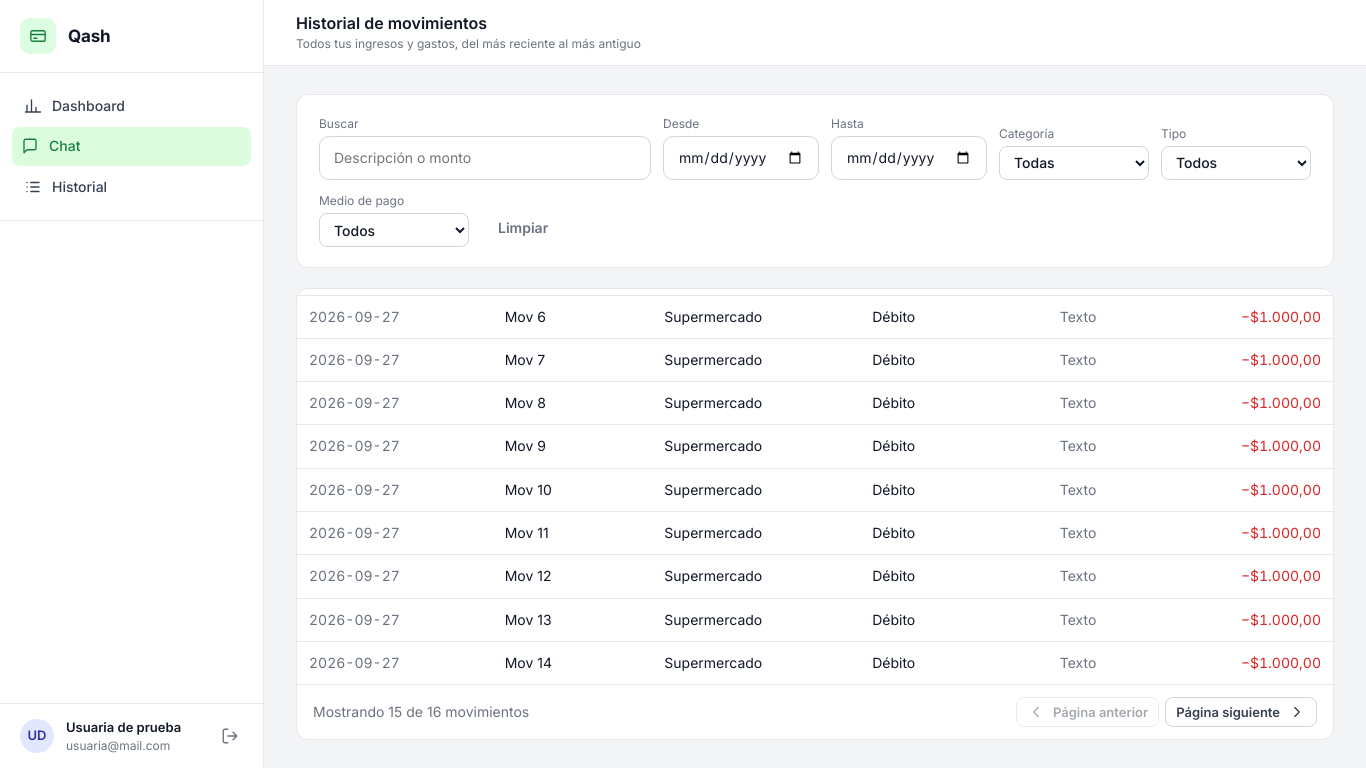
Test: Historial › muestra el total y permite pasar de página
The width and height of the screenshot is (1366, 768).
(page scrolled)
Expected: the text "Mostrando 15 de 16 movimientos" is shown, [313,702,529,722]
Click the button "Página siguiente" at {"x": 1241, "y": 712}, box [1165,697,1317,727]
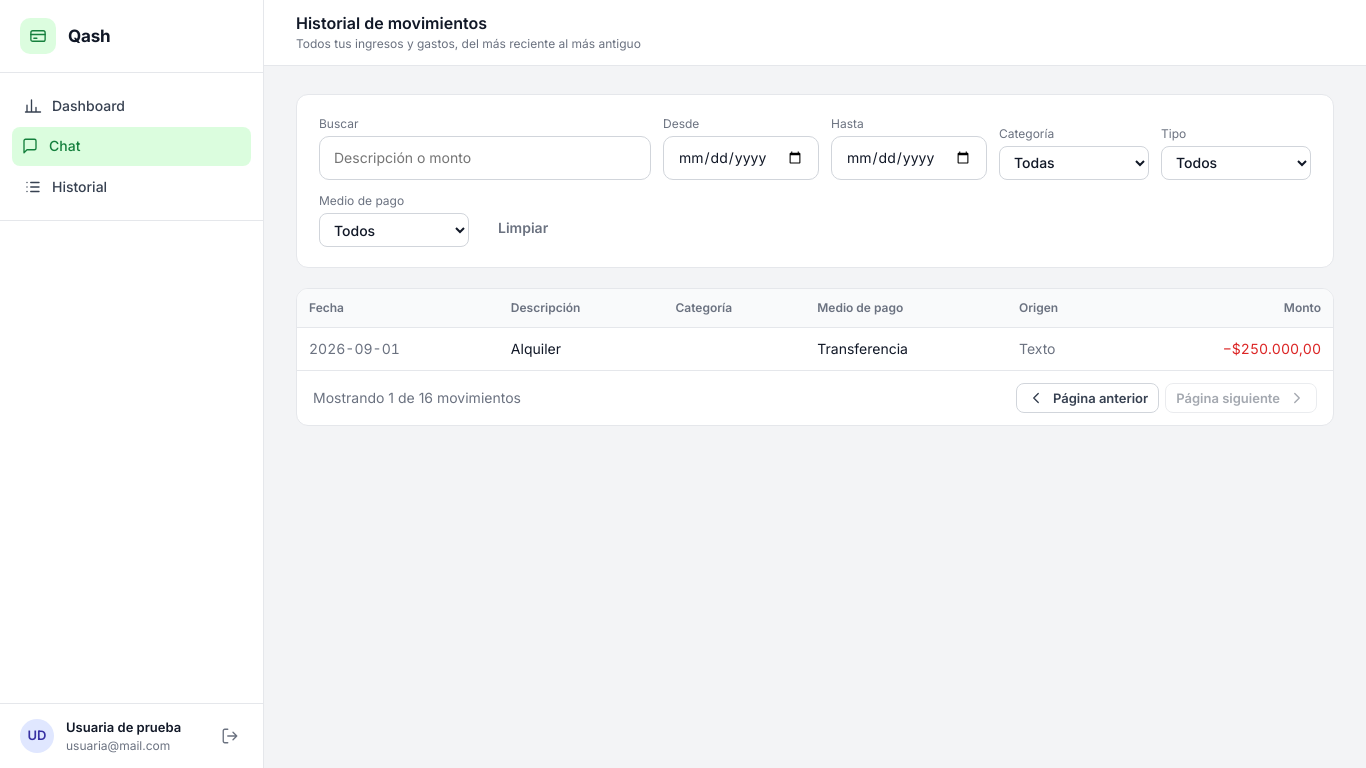
Now the text "Alquiler" is shown, box [499,327,663,370]
